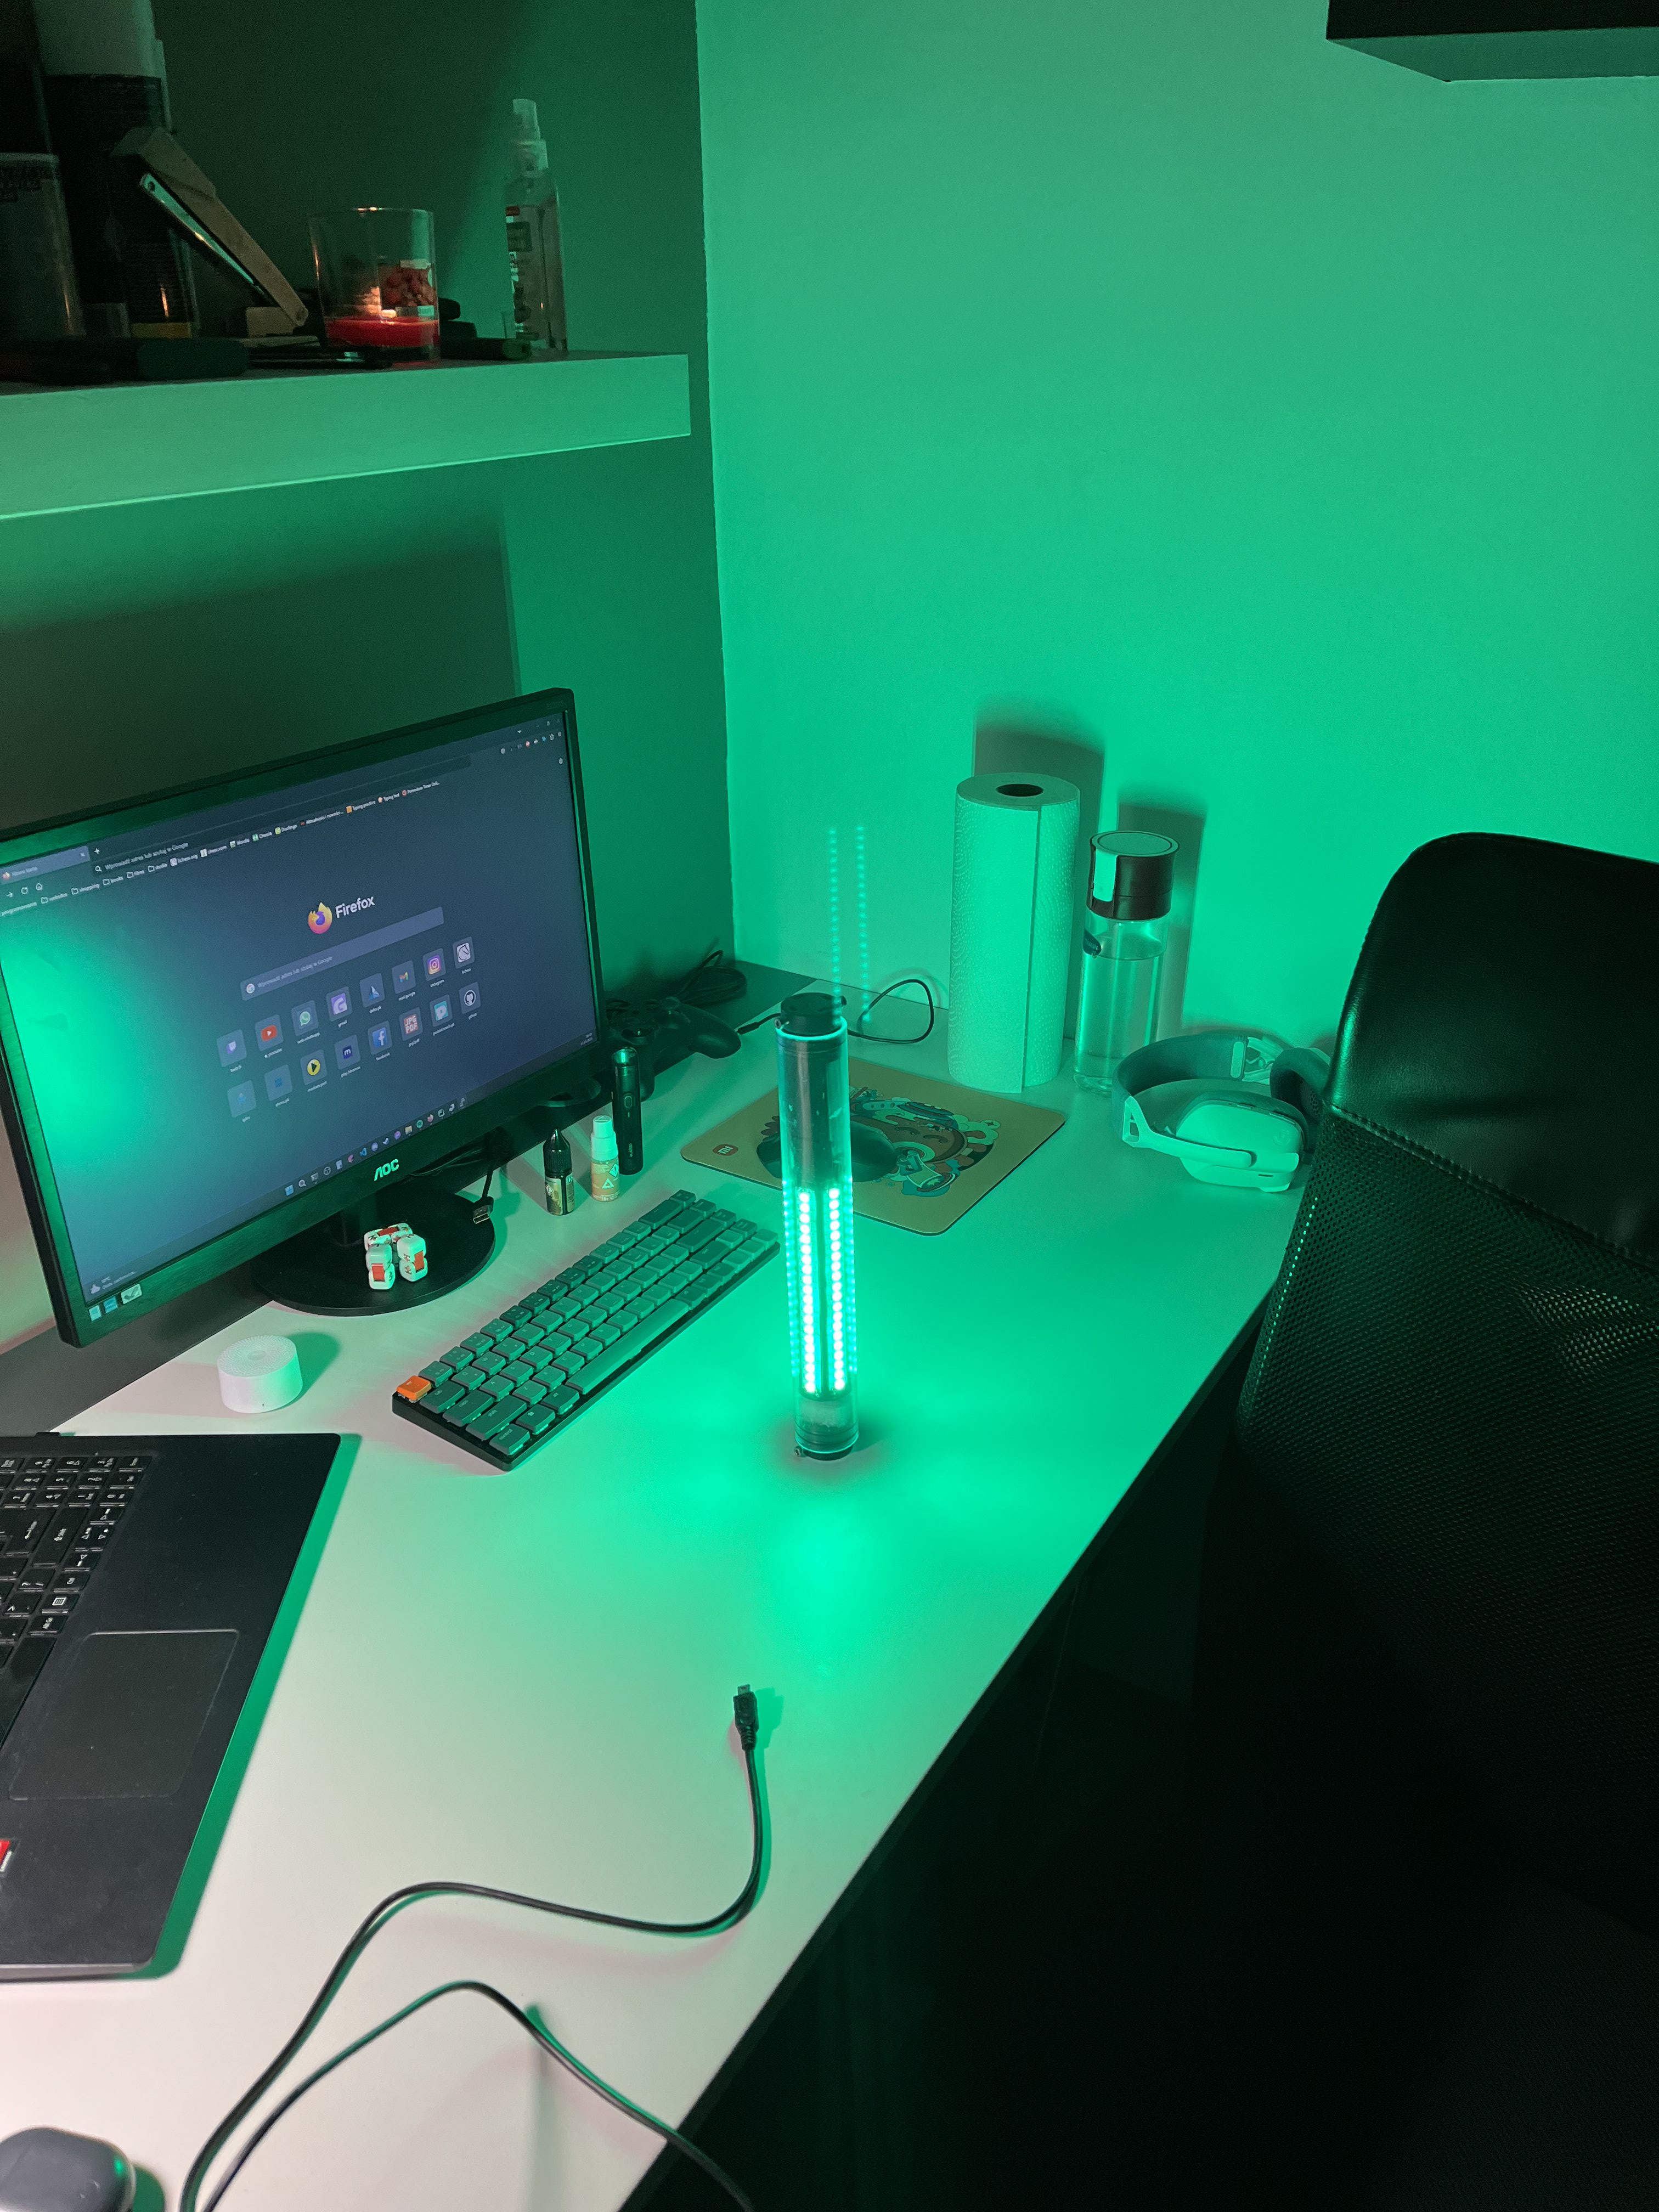green: (779, 1026, 859, 1456)
